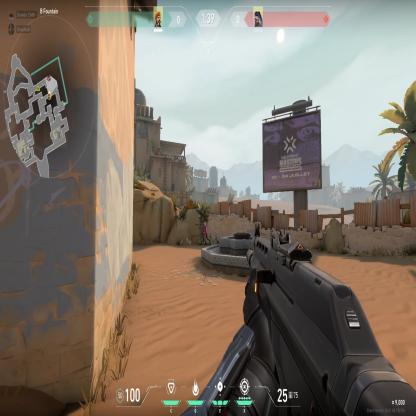enemy: (201, 219, 212, 246)
